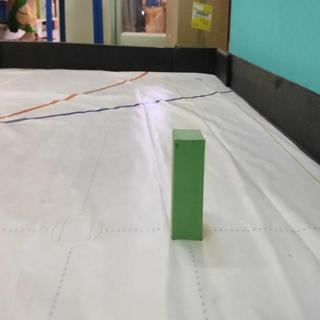greenbox: (171, 127, 205, 242)
